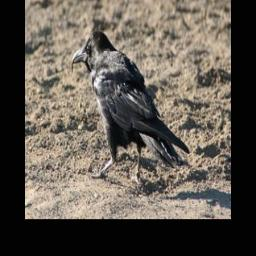Crow: (71, 27, 192, 192)
